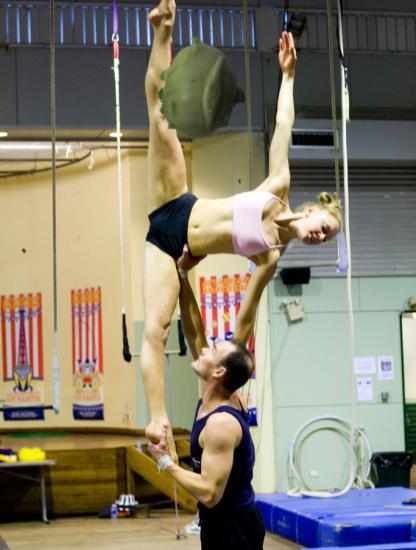Kohlrabi: (150, 37, 253, 140)
